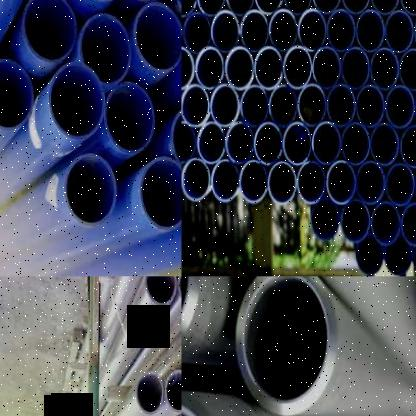pipe: (232, 276, 340, 416), (50, 62, 104, 140), (64, 152, 117, 227), (79, 13, 131, 85), (104, 82, 155, 154), (22, 0, 76, 63), (134, 2, 182, 71), (140, 157, 182, 231), (0, 58, 34, 131), (326, 160, 356, 205), (312, 121, 342, 166), (224, 46, 254, 91), (282, 122, 312, 166), (371, 202, 401, 246), (341, 199, 370, 244), (355, 85, 385, 128), (311, 198, 340, 242), (386, 162, 415, 206), (356, 161, 385, 205), (297, 160, 326, 204), (341, 122, 370, 166), (312, 46, 341, 90), (341, 46, 370, 90), (283, 46, 312, 90), (211, 159, 240, 202), (326, 84, 355, 127), (211, 83, 240, 126), (195, 47, 224, 90), (211, 10, 240, 53), (269, 9, 298, 52), (327, 9, 356, 52), (182, 157, 210, 201), (254, 122, 282, 166), (254, 46, 282, 90), (298, 8, 326, 52), (136, 370, 164, 414), (298, 84, 327, 126), (370, 48, 399, 90), (385, 10, 414, 52), (383, 234, 412, 276), (268, 161, 296, 204), (371, 123, 399, 166), (226, 121, 254, 164), (386, 85, 414, 128), (269, 84, 297, 127), (356, 8, 384, 51), (240, 160, 267, 204), (197, 122, 225, 164), (240, 10, 268, 52), (356, 234, 384, 276), (241, 84, 268, 127), (183, 12, 211, 53), (182, 84, 209, 126), (145, 276, 176, 306), (398, 48, 416, 91), (399, 124, 416, 168), (165, 369, 182, 412), (400, 202, 416, 247), (172, 105, 182, 175), (181, 121, 196, 164), (182, 46, 194, 90), (196, 0, 225, 16), (225, 0, 253, 16), (283, 0, 311, 15), (253, 0, 283, 14), (370, 0, 399, 14), (312, 0, 341, 14), (341, 0, 370, 13), (400, 0, 416, 15), (181, 0, 195, 17), (413, 236, 416, 276)
